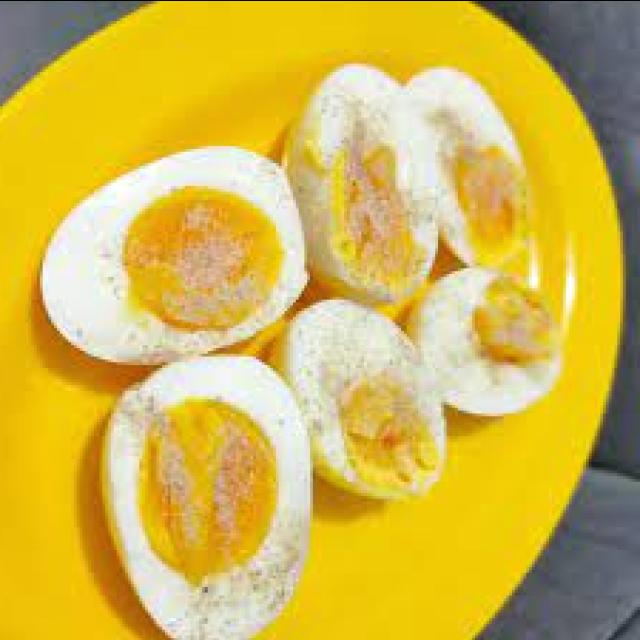telur rebus: (31, 131, 337, 370), (92, 352, 318, 632), (270, 48, 458, 300), (284, 295, 454, 523), (390, 46, 562, 270), (411, 264, 578, 422)
